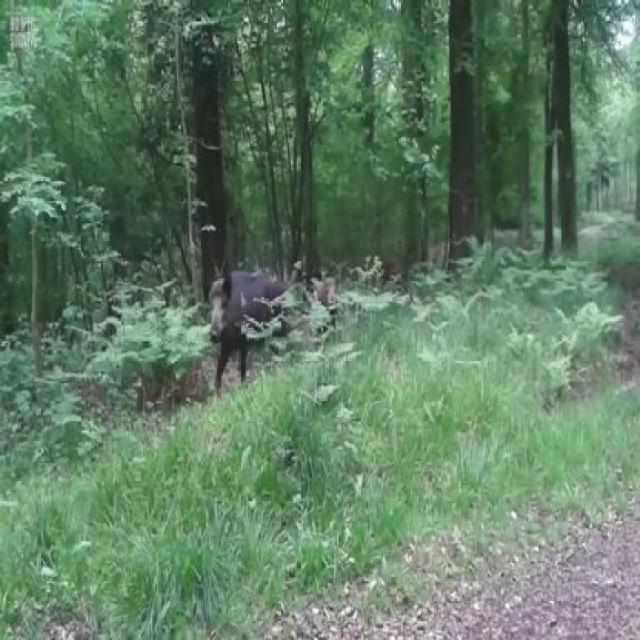pig: (205, 257, 319, 382)
